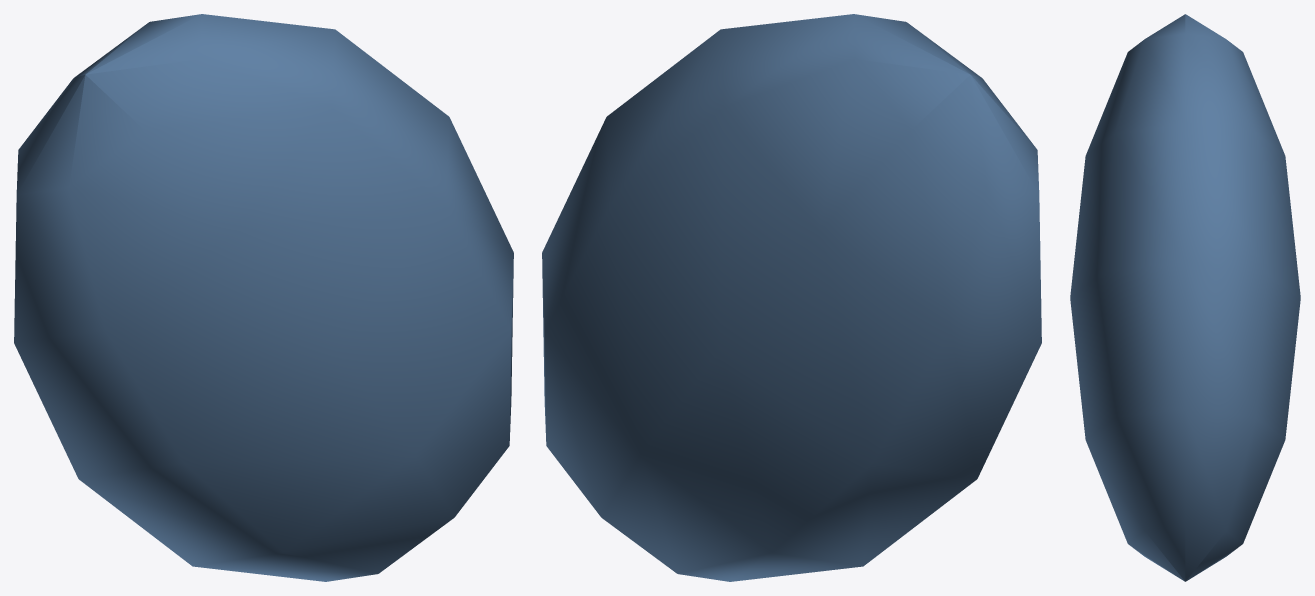
File: hand_R.obj
3 renders of one model, left to right at view 1: azimuth 30°, elevation 25°; view 2: azimuth 150°, elevation 25°; view 3: azimuth 270°, elevation 25°, orthographic. The views are drawn at different scales.
Visible parts, largest first — view 1: hand_R; view 2: hand_R; view 3: hand_R.
Part boxes in pixels (box(x1,y1,x2,y2)): hand_R: box(14, 14, 513, 581); hand_R: box(542, 14, 1041, 581); hand_R: box(1070, 14, 1300, 581).
Size of the model in its own units: 0.0933 by 0.1068 by 0.0465.
